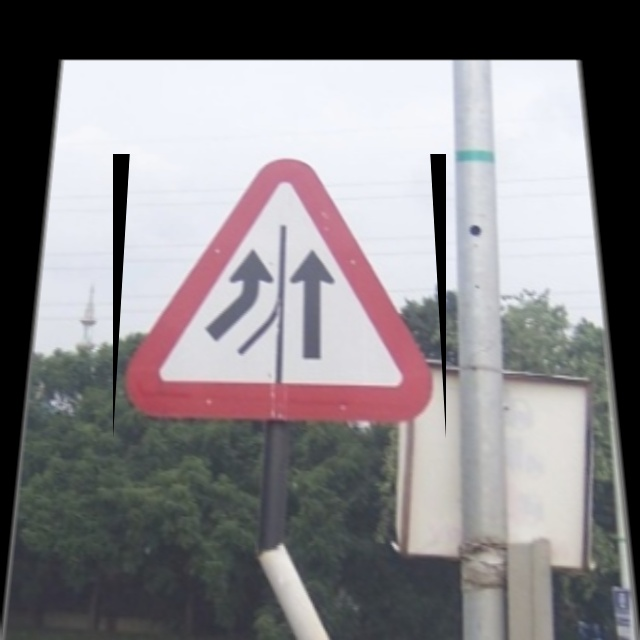Merge_Traffic_Ahead: (113, 154, 446, 439)
